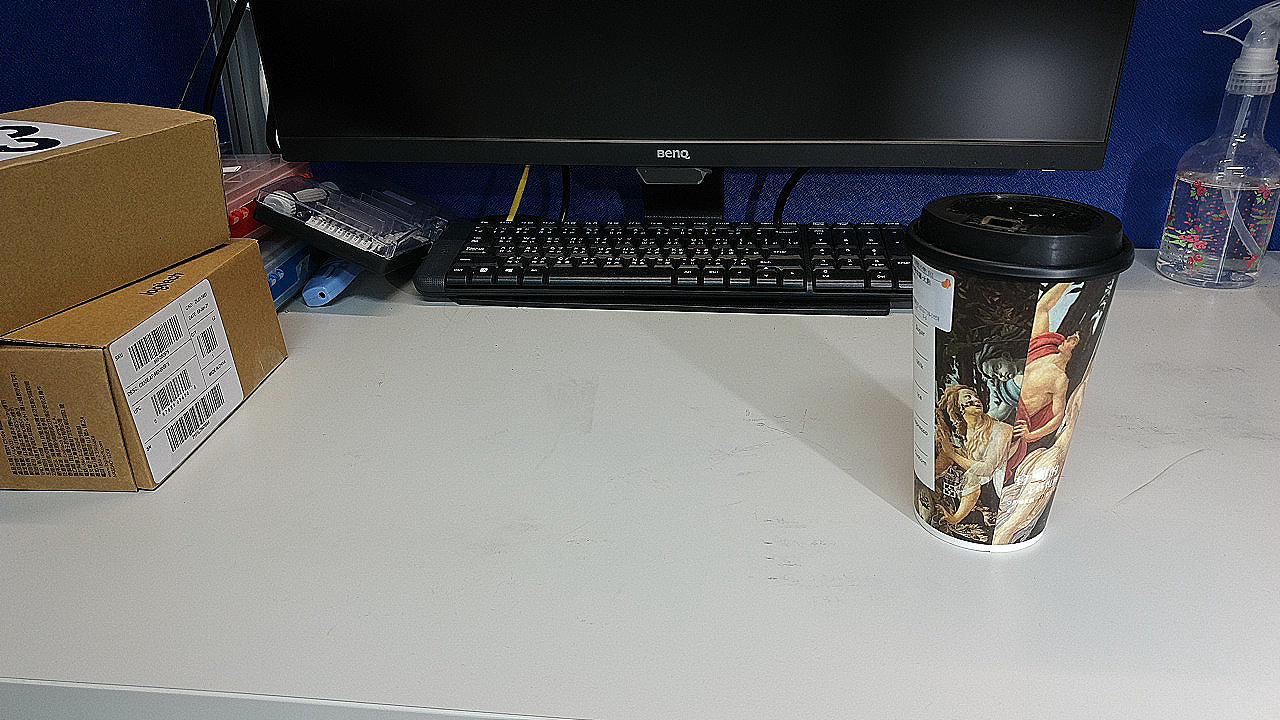circle: (831, 391, 951, 478)
